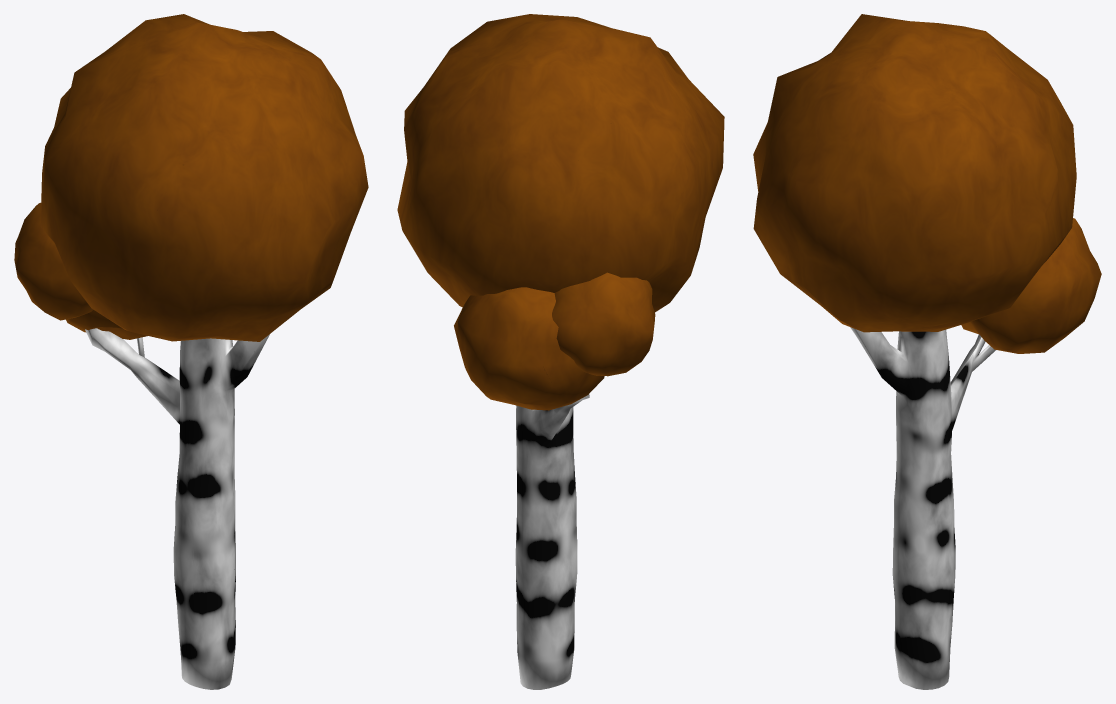
File: BirchBrown2.fbx
The picture shows the model from 3 angles, left to right: view 1: azimuth 30°, elevation 25°; view 2: azimuth 150°, elevation 25°; view 3: azimuth 270°, elevation 25°; orthographic projection.
Visible parts, largest first — view 1: BirchBrown2; view 2: BirchBrown2; view 3: BirchBrown2.
Part boxes in pixels (box(x1,y1,x2,y2)): BirchBrown2: box(14, 14, 368, 689); BirchBrown2: box(397, 14, 724, 689); BirchBrown2: box(753, 14, 1101, 689).
Bounding box in the file's own units: 280 × 623 × 302.
Materials: 2 (2 with a texture image).
